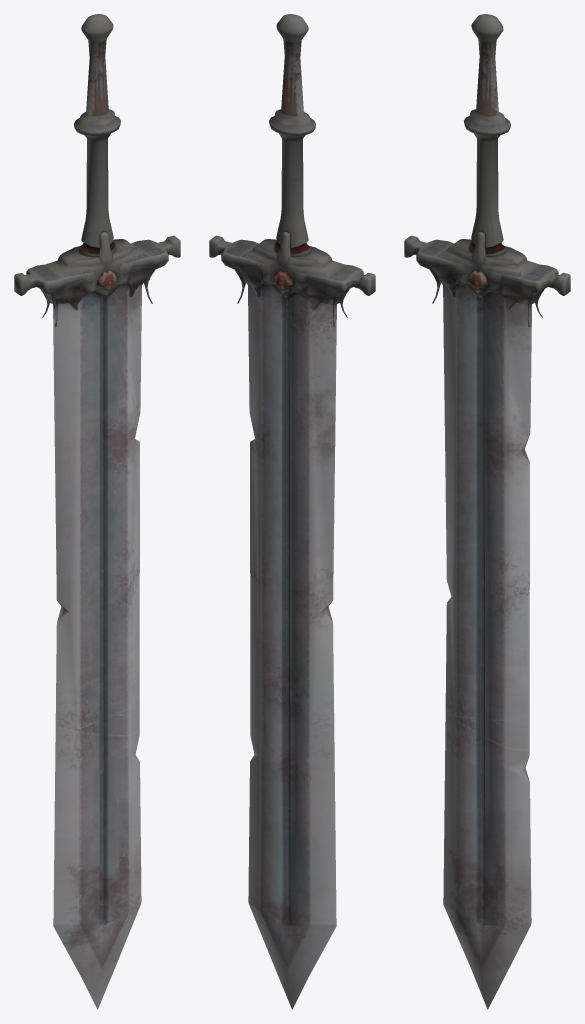
Rendered from og_heavy.glb.
3 views of the same model, side by side, from view 1: azimuth 30°, elevation 25°; view 2: azimuth 150°, elevation 25°; view 3: azimuth 330°, elevation 25° (orthographic).
Size of the model in its own units: 0.1698 by 1 by 0.044.
1 material, 1 textured.
